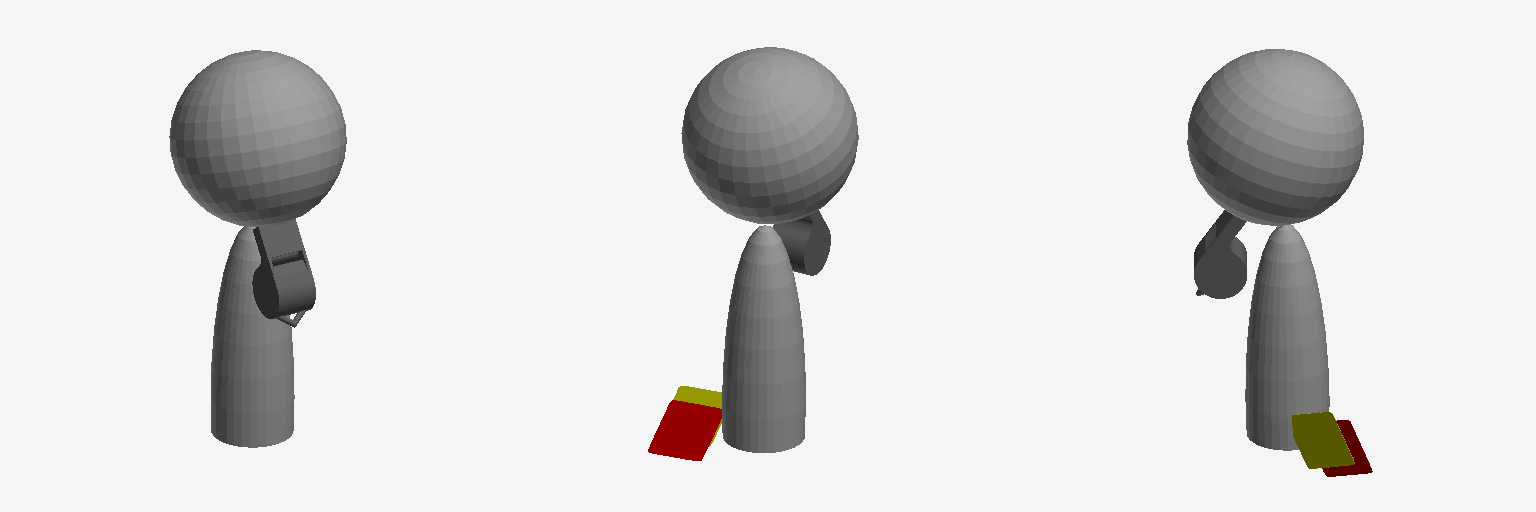
Rendered from refree.obj.
3 views of the same model, side by side, from view 1: azimuth 30°, elevation 25°; view 2: azimuth 150°, elevation 25°; view 3: azimuth 270°, elevation 25° (orthographic).
Parts seen in each view (by area): view 1: Sphere.001_Sphere.002, Whistle; view 2: Sphere.001_Sphere.002, ZT_CardProjectile_St.001_ZT_CardProjectile_St.003, Whistle, ZT_CardProjectile_St.000_ZT_CardProjectile_St.002; view 3: Sphere.001_Sphere.002, Whistle, ZT_CardProjectile_St.000_ZT_CardProjectile_St.002, ZT_CardProjectile_St.001_ZT_CardProjectile_St.003.
Part boxes in pixels (bbox=[...]): Sphere.001_Sphere.002: bbox=[169, 50, 346, 447]; Whistle: bbox=[252, 219, 315, 327]; Sphere.001_Sphere.002: bbox=[681, 47, 858, 452]; ZT_CardProjectile_St.001_ZT_CardProjectile_St.003: bbox=[648, 400, 721, 460]; Whistle: bbox=[773, 210, 830, 275]; ZT_CardProjectile_St.000_ZT_CardProjectile_St.002: bbox=[673, 386, 721, 446]; Sphere.001_Sphere.002: bbox=[1187, 49, 1363, 450]; Whistle: bbox=[1194, 210, 1246, 298]; ZT_CardProjectile_St.000_ZT_CardProjectile_St.002: bbox=[1292, 412, 1354, 468]; ZT_CardProjectile_St.001_ZT_CardProjectile_St.003: bbox=[1322, 420, 1372, 476].
Size of the model in its own units: 1.99 by 4.95 by 2.09.